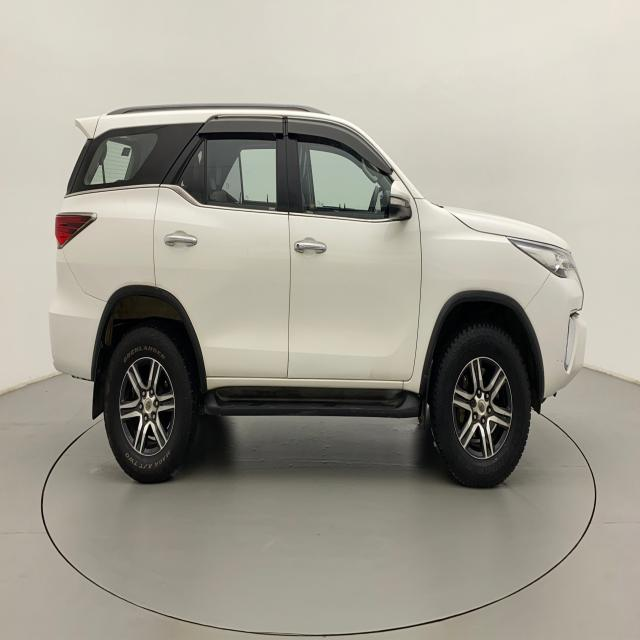light_vehicle: (48, 104, 588, 490)
